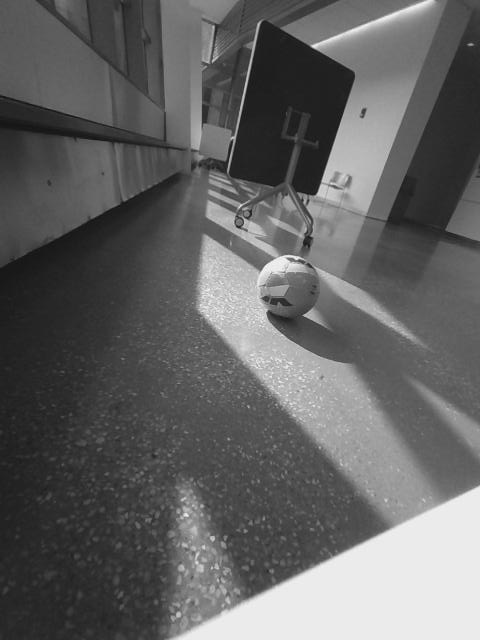ball: (254, 252, 323, 323)
